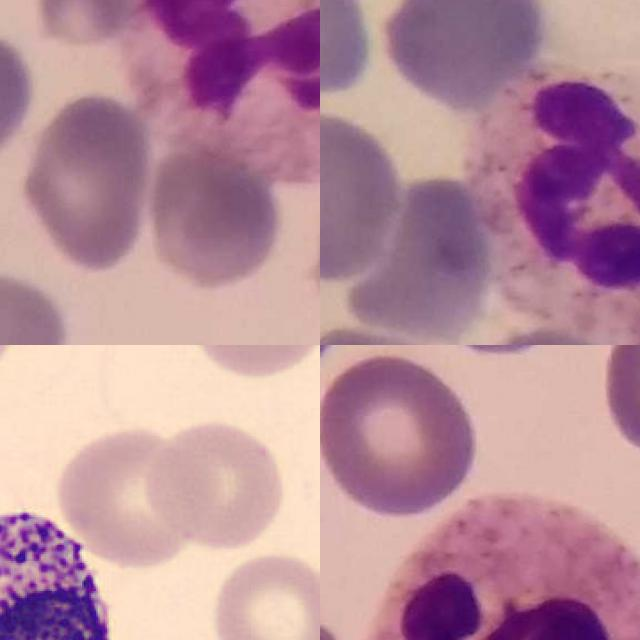Basophil: (0, 487, 128, 640)
Neutrophil: (465, 67, 640, 328), (365, 495, 640, 640), (130, 0, 320, 181)
RBC: (50, 420, 210, 568), (144, 416, 290, 554), (202, 546, 318, 640), (181, 345, 320, 381)
